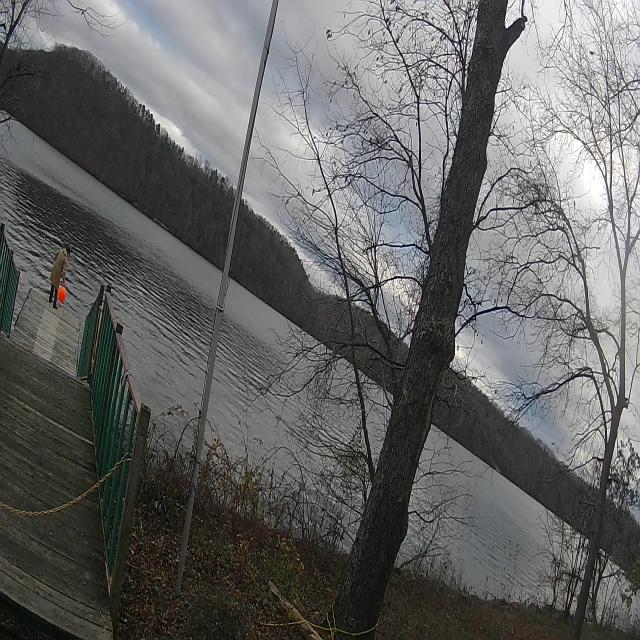Buoy: (57, 283, 69, 308)
